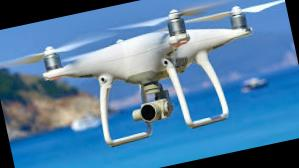drone: (3, 0, 299, 163)
